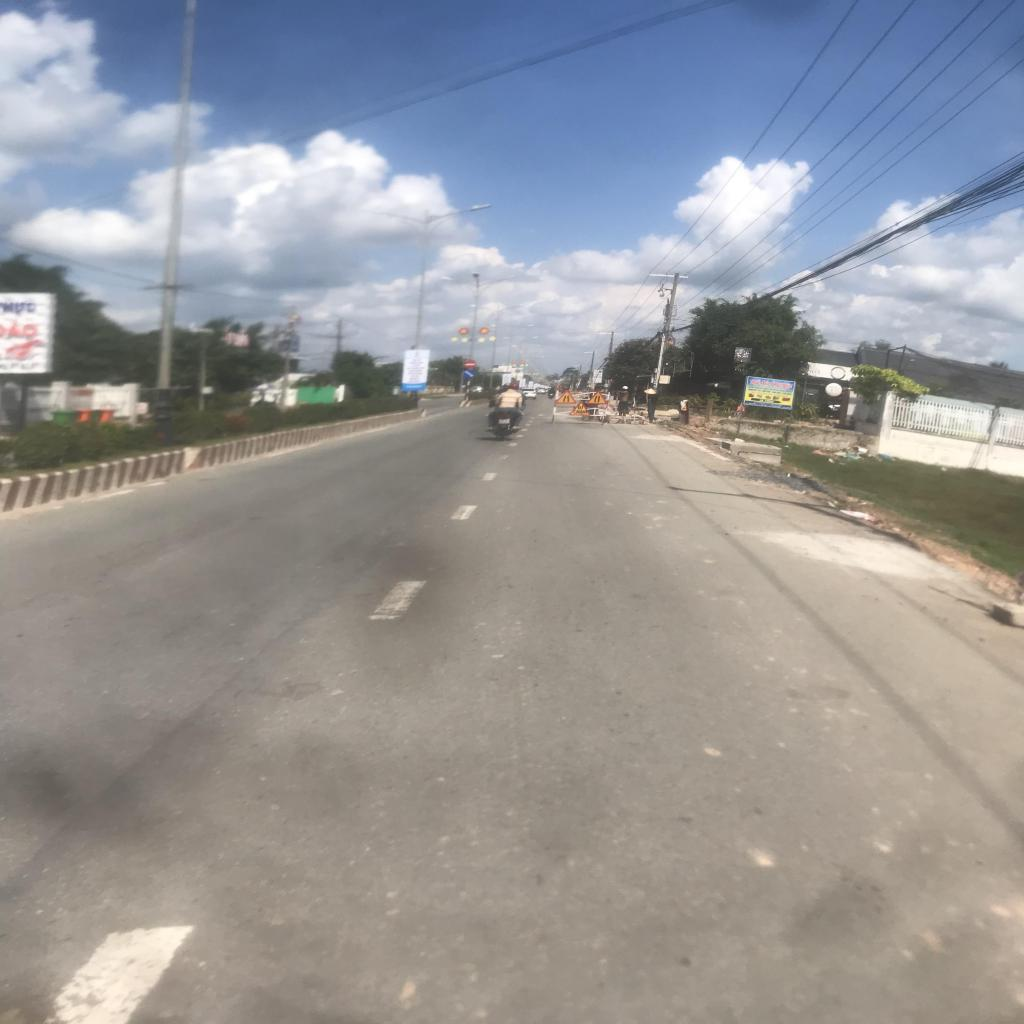cam_xe_di_nguoc_chieu: (464, 360, 476, 369)
di_cham: (568, 402, 591, 416)
huong_phai_di_vuot_chuong_ngai_vat_phai: (463, 370, 475, 379)
khac: (555, 389, 577, 404), (585, 390, 608, 404)
